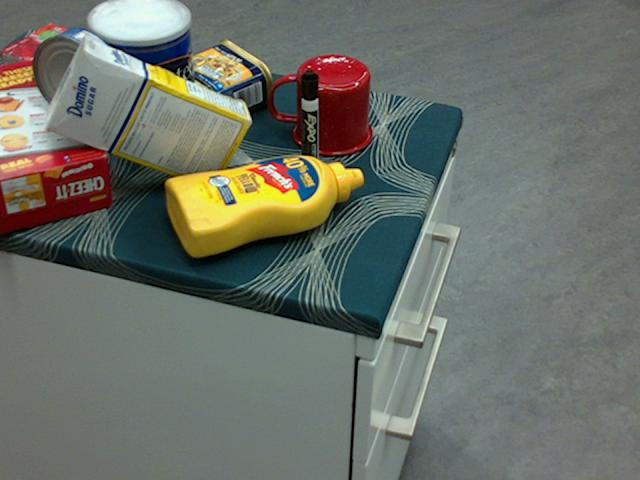cracker_box: (0, 60, 113, 232)
gelatin_box: (3, 25, 99, 87)
large_marker: (299, 69, 319, 177)
master_chef_can: (89, 0, 195, 158)
mug: (268, 54, 371, 156)
mustard_bottle: (165, 155, 364, 257)
potted_meat_can: (164, 39, 273, 127)
sugar_box: (46, 38, 253, 188)
tomato_soup_can: (74, 16, 157, 108)
tuna_fish_can: (32, 28, 123, 119)
